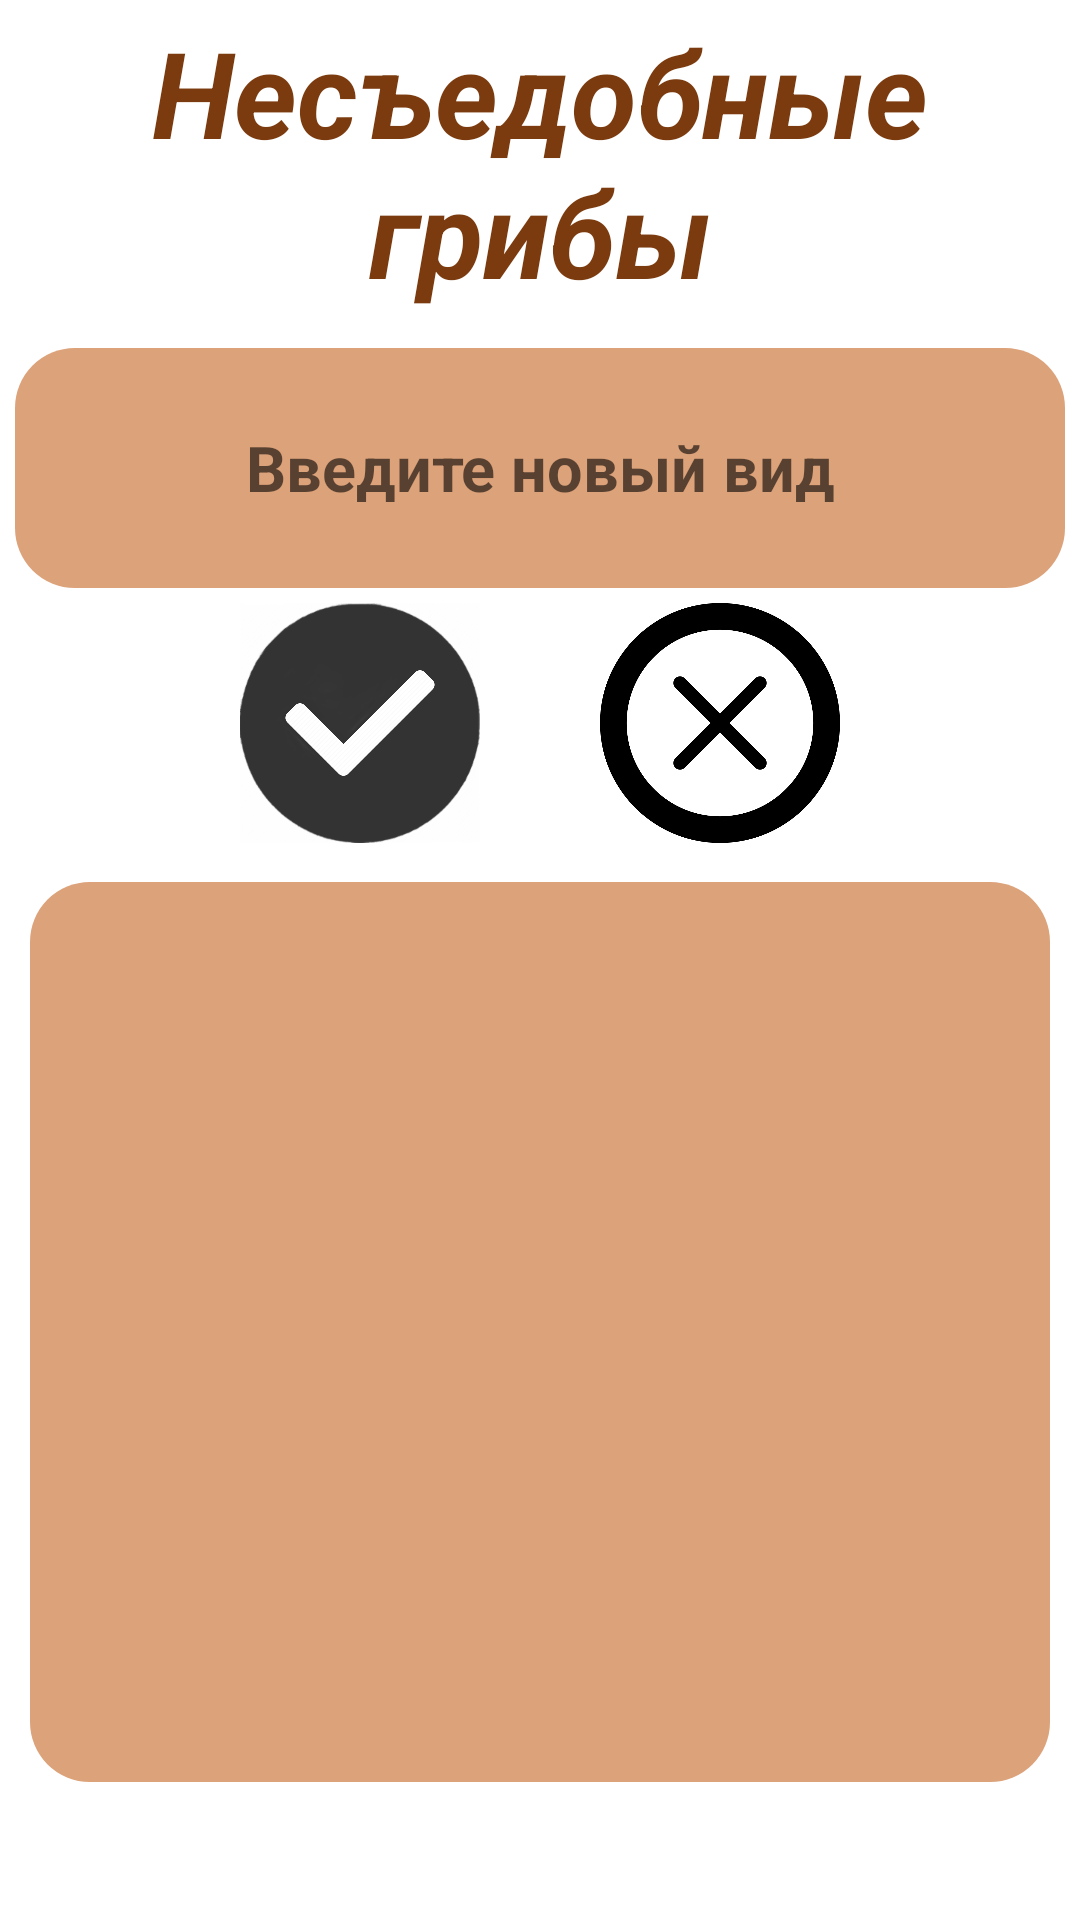

Icon bounding boxes for this 1080w x 1920h phone screenshot, format (x1, y1, x2, y2):
accept: (240, 603, 480, 843)
cancel: (600, 603, 840, 843)
